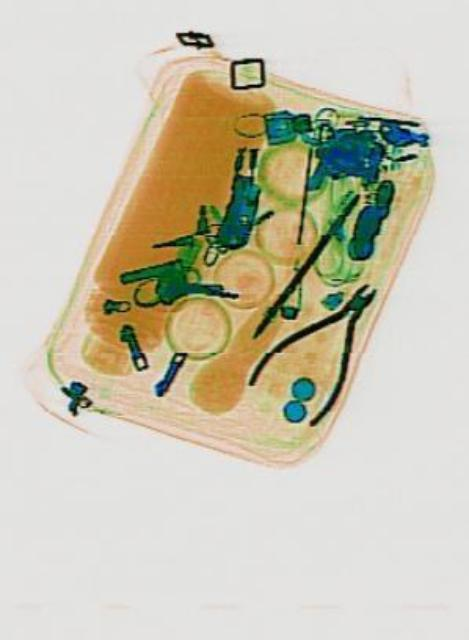Pliers: (241, 250, 397, 444)
